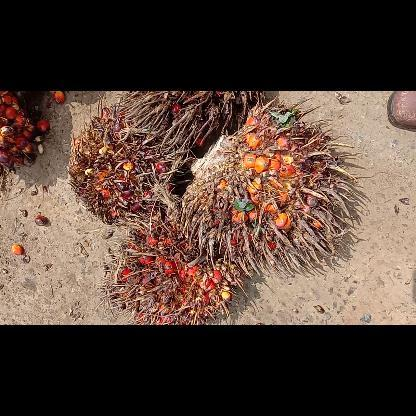Terlalu masak: (176, 96, 370, 282), (99, 208, 249, 324), (66, 102, 194, 228), (115, 91, 275, 153)
